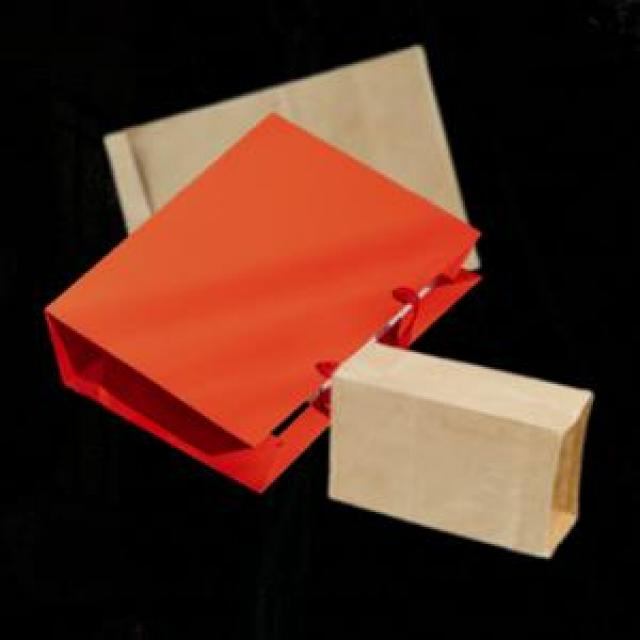Paper -Biodegradable-: (43, 110, 484, 491), (105, 44, 470, 231), (329, 347, 590, 559)
